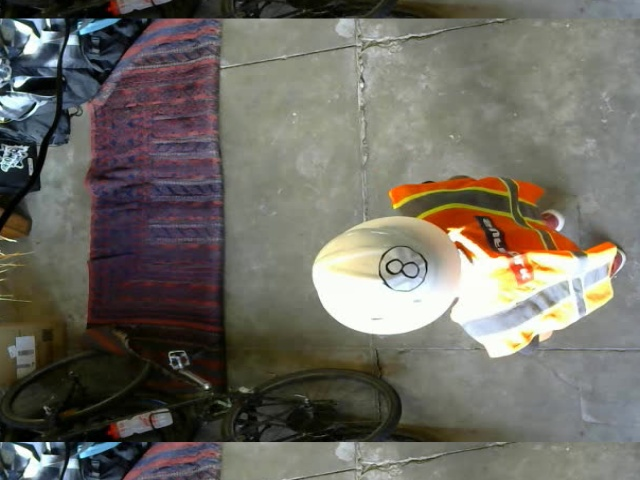eight: (377, 245, 427, 291)
